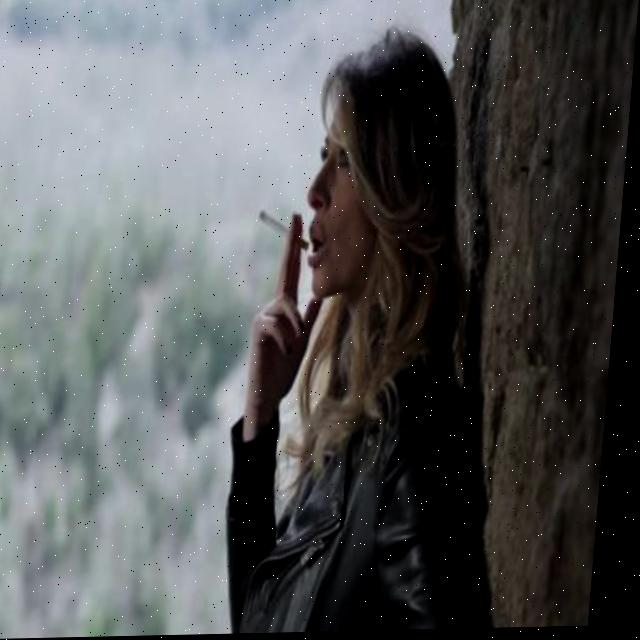cigarette: (261, 211, 316, 255)
